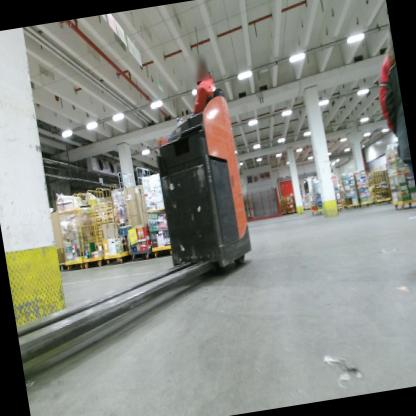pallet_truck: (0, 84, 269, 401)
